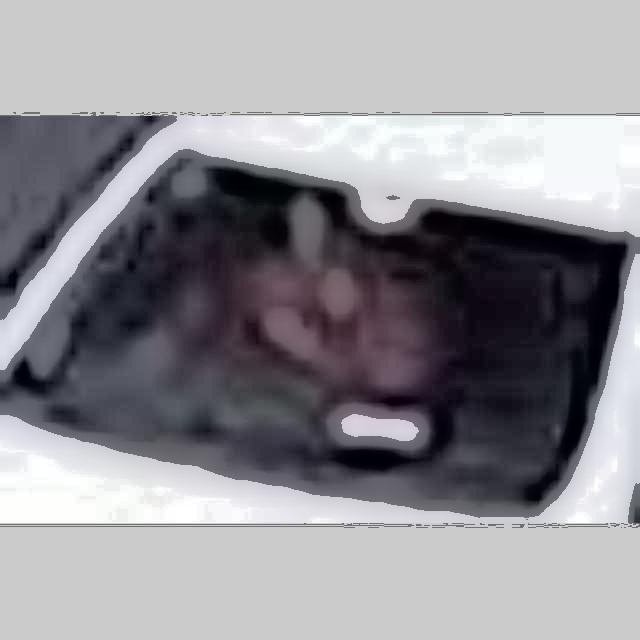tidak-pakai: (194, 213, 446, 446)
